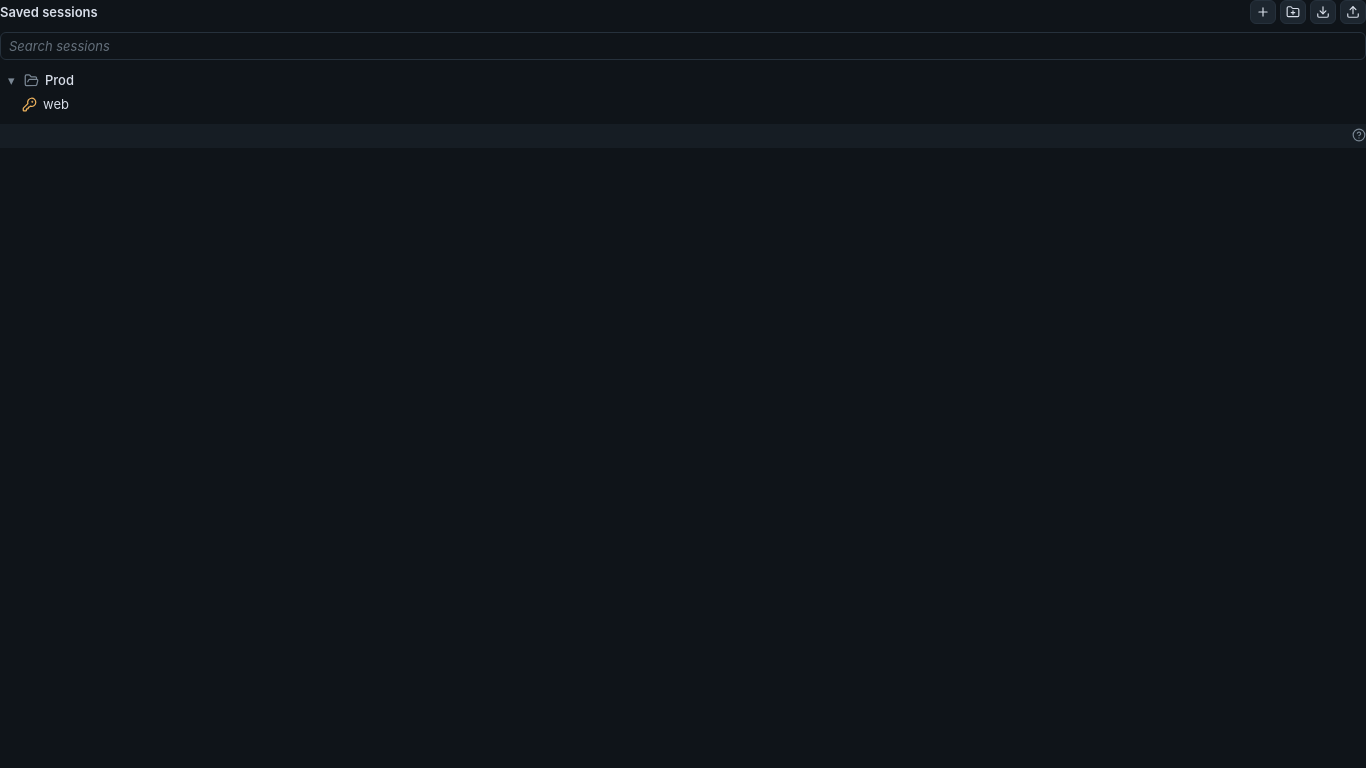
Test: SessionsPanel › shows the read error when ~/.ssh/config cannot be read
What coordinates should you click on to do the following:
click the button named "Import sessions"
I would click on:
 (1323, 12)
Its box is [1310,0,1336,24].
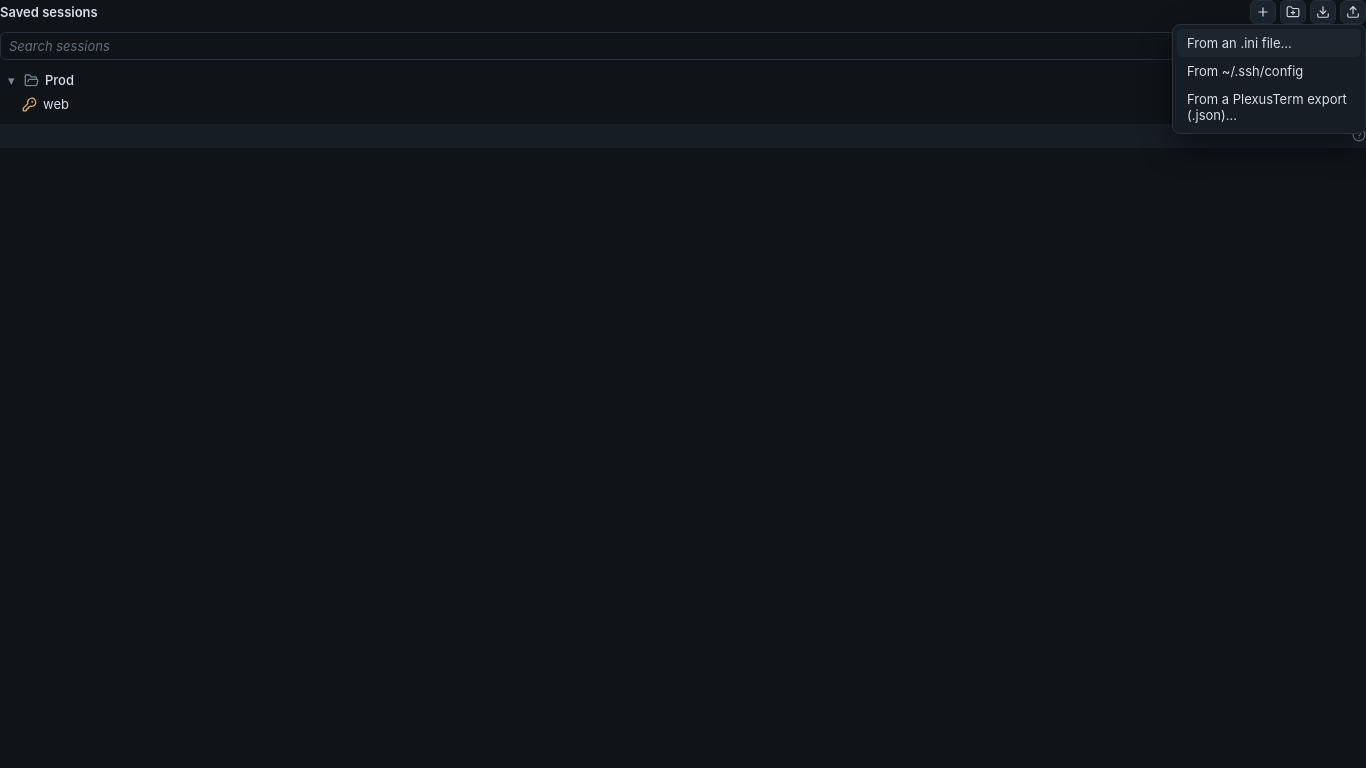
What coordinates should you click on to do the following:
click the menu item "From ~/.ssh/config"
I would click on:
 (1269, 71)
Its box is [1177,57,1361,85].
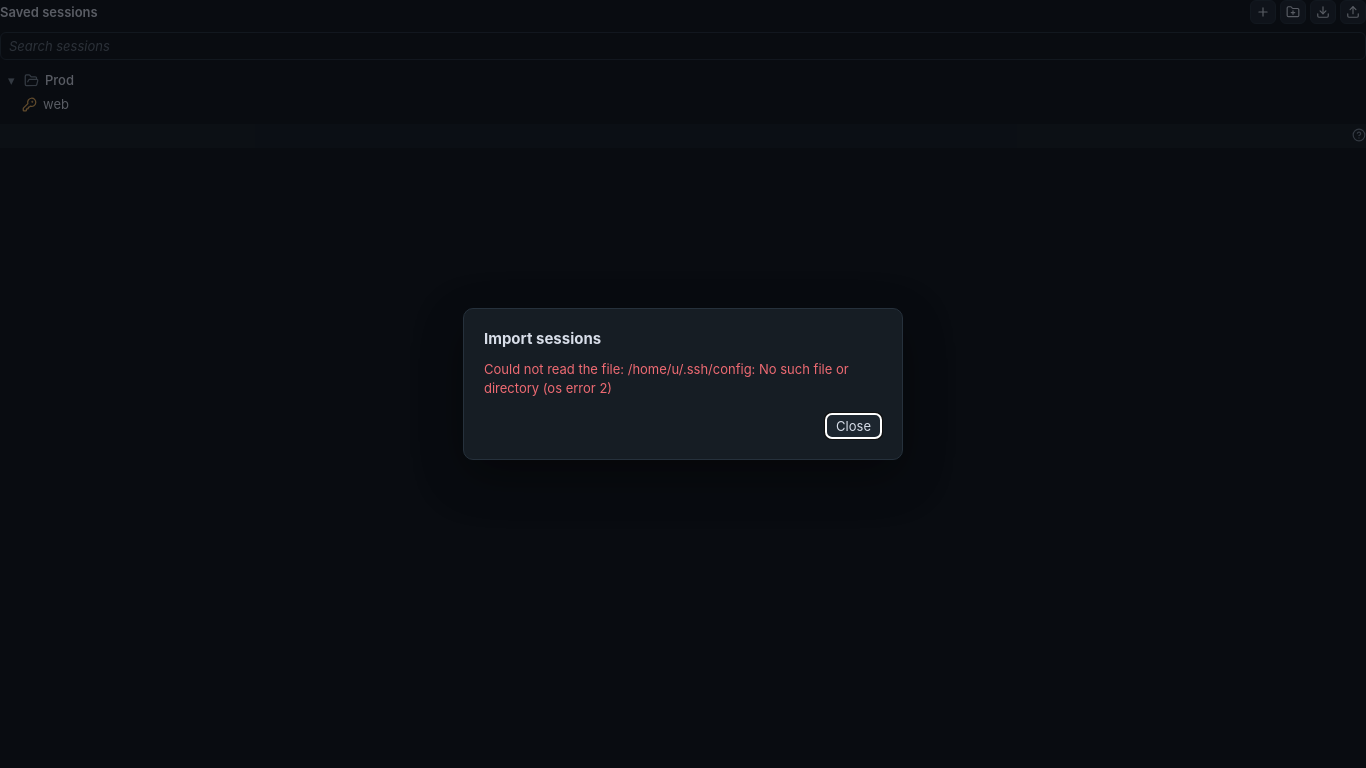
Now the message shows "Could not read the file: /home/u/.ssh/config: No such file or directory (os error 2)", box [484,361,849,396]
